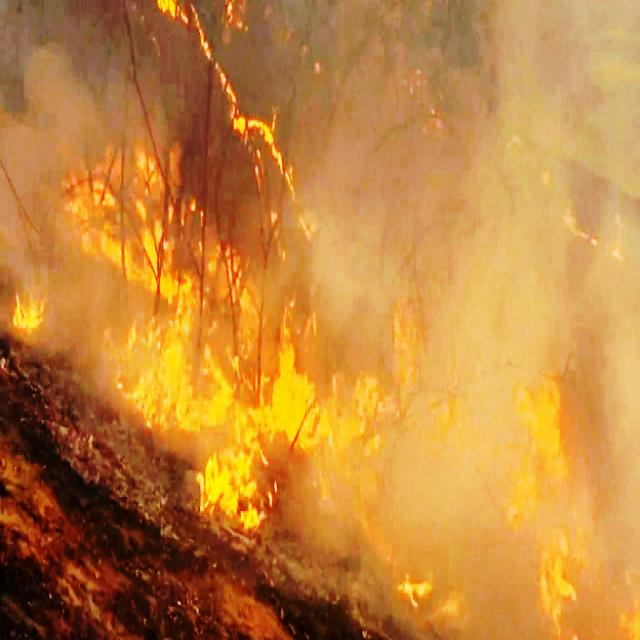api: (55, 138, 257, 315), (126, 305, 370, 451), (196, 428, 287, 548), (234, 115, 316, 247), (185, 1, 249, 129), (389, 576, 447, 619), (10, 275, 49, 333), (157, 1, 194, 35)
asap: (498, 365, 584, 640)
